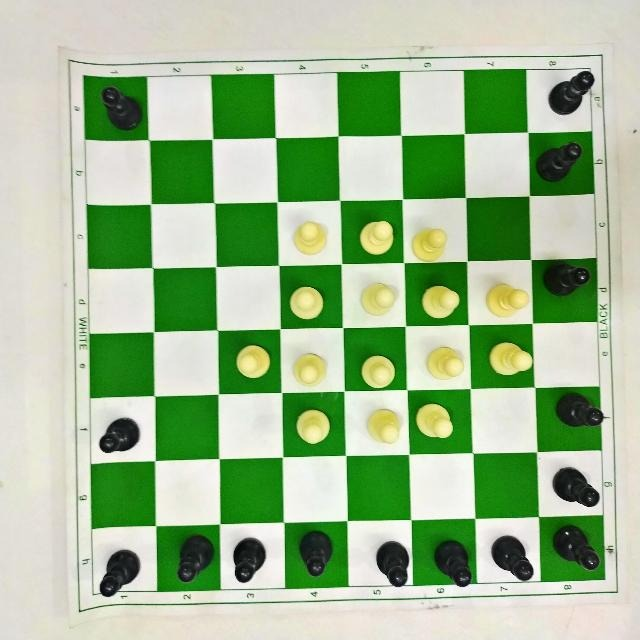black-pawn: (100, 78, 150, 136), (94, 543, 143, 601), (549, 64, 599, 116), (551, 522, 603, 572), (536, 136, 588, 185), (553, 389, 608, 433), (550, 464, 599, 512), (431, 536, 475, 588), (376, 536, 416, 593), (491, 531, 535, 582), (542, 257, 598, 296), (299, 529, 341, 578), (234, 533, 272, 585), (178, 531, 214, 585), (97, 416, 141, 456)
white-pawn: (414, 400, 456, 442), (486, 281, 531, 320), (488, 339, 533, 378), (357, 217, 397, 257), (424, 343, 464, 383), (291, 217, 330, 256), (367, 405, 405, 445), (292, 408, 332, 446), (409, 226, 451, 262), (235, 343, 271, 382), (289, 282, 326, 319), (421, 285, 461, 319), (360, 354, 396, 390), (360, 282, 396, 318), (292, 350, 326, 387)
